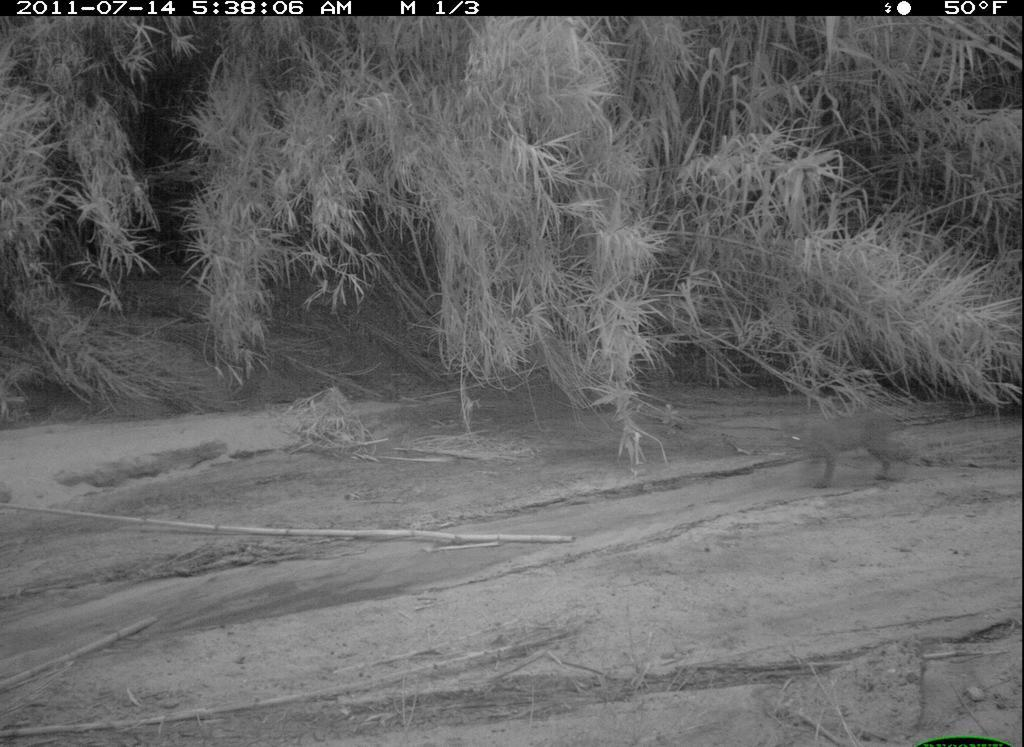bobcat: (772, 405, 921, 495)
